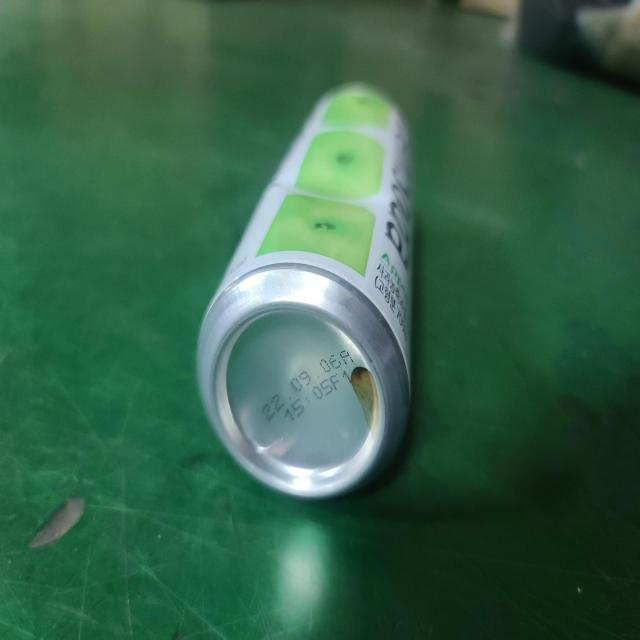can: (197, 84, 413, 498)
